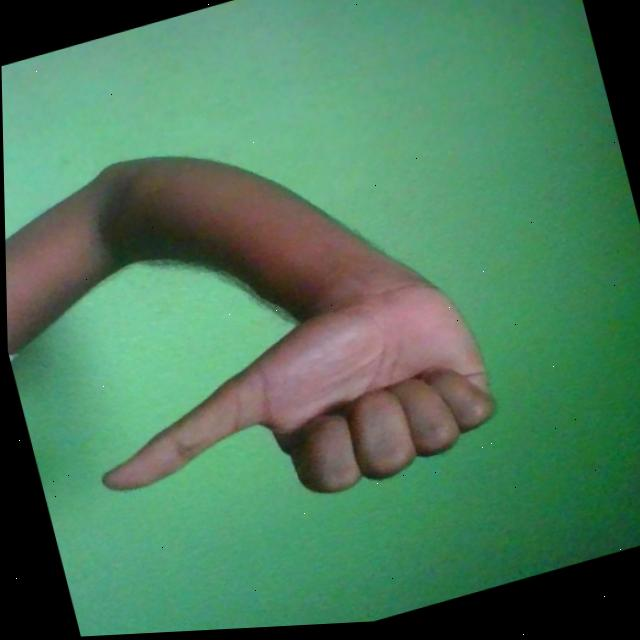Dislike: (71, 267, 504, 555)
